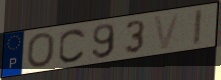3: (123, 19, 146, 55)
9: (91, 22, 117, 60)
C: (57, 27, 88, 64)
I: (192, 7, 204, 47)
O: (25, 31, 57, 69)
V: (152, 11, 183, 52)
